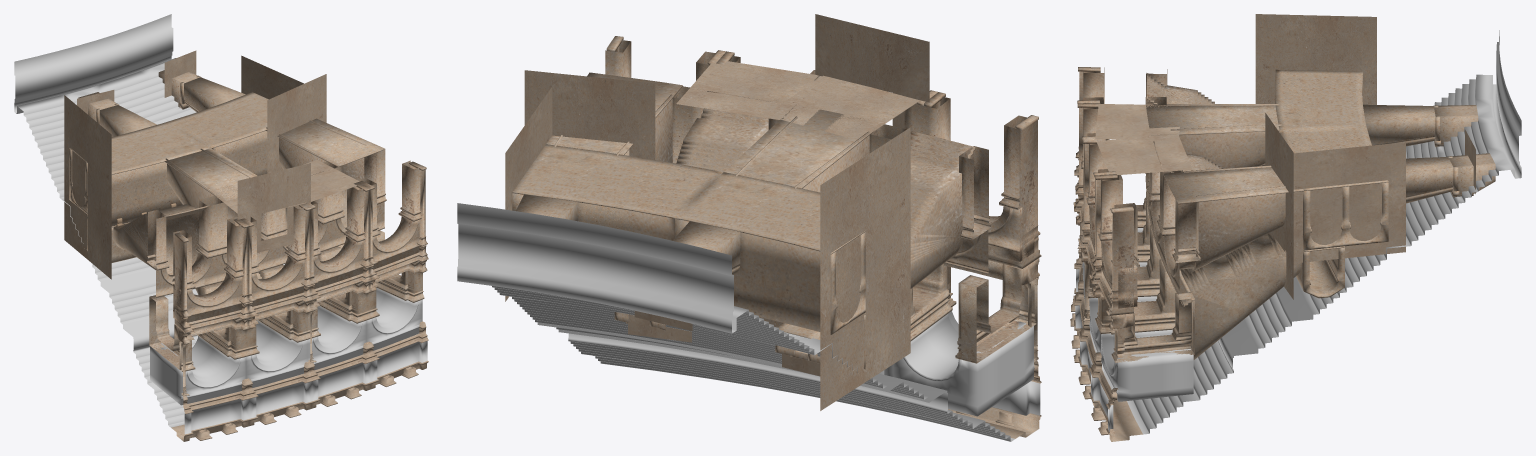
File: arene left temporaty.fbx
3 renders of one model, left to right at view 1: azimuth 30°, elevation 25°; view 2: azimuth 150°, elevation 25°; view 3: azimuth 270°, elevation 25°, orthographic. The views are drawn at different scales.
Parts seen in each view (by area): view 1: Arene_Shema; view 2: Arene_Shema; view 3: Arene_Shema.
Part boxes in pixels (left/top/right/bottom): Arene_Shema: left=14, top=14, right=428, bottom=441; Arene_Shema: left=457, top=14, right=1041, bottom=441; Arene_Shema: left=1070, top=14, right=1521, bottom=441.
Bounding box in the file's own units: 2975 × 2748 × 3915.
